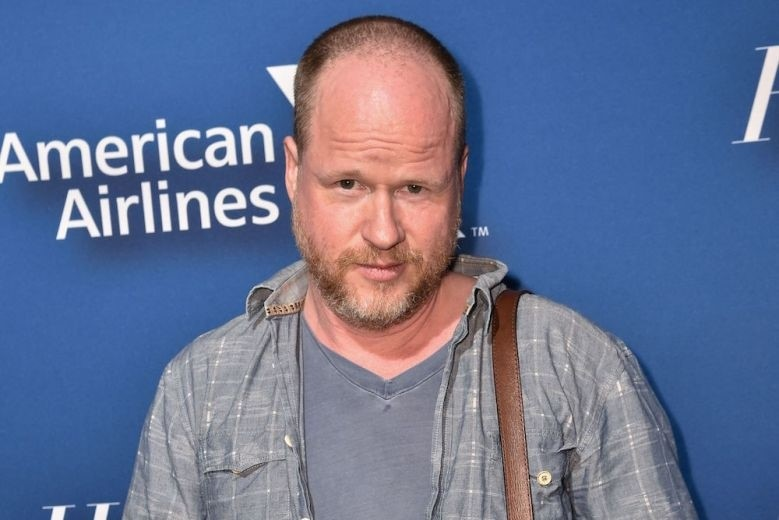face_no_mask: (284, 17, 468, 328)
